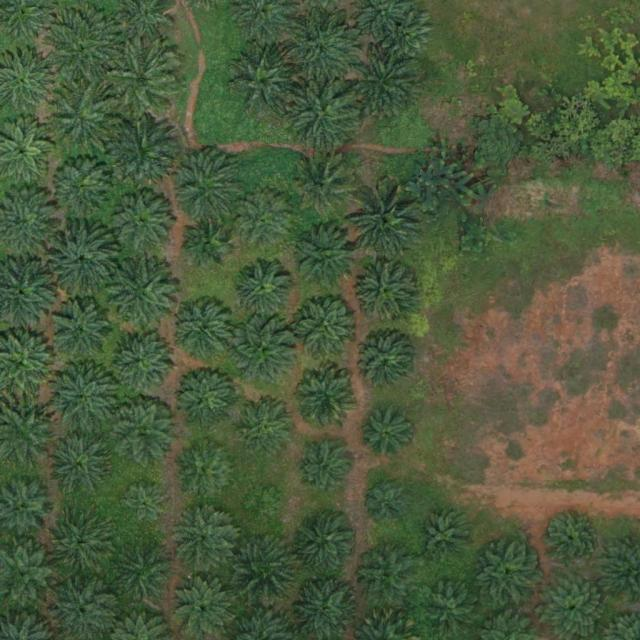Healthy: (105, 45, 176, 116), (170, 153, 241, 224), (286, 15, 357, 86), (290, 291, 361, 362), (48, 15, 118, 86), (46, 82, 116, 153), (109, 115, 179, 186), (107, 187, 177, 258), (108, 260, 178, 331), (229, 47, 299, 118), (289, 80, 359, 151), (350, 54, 420, 125), (227, 316, 297, 387), (352, 189, 422, 259), (47, 220, 117, 290), (292, 225, 362, 295), (290, 510, 360, 580), (229, 533, 299, 603), (50, 365, 120, 435), (295, 156, 358, 219), (50, 301, 113, 364), (354, 260, 417, 323), (355, 545, 418, 608), (237, 397, 300, 460), (49, 431, 112, 494), (47, 514, 110, 577), (51, 154, 113, 217), (169, 300, 232, 362), (233, 189, 295, 252), (231, 259, 293, 322), (355, 331, 418, 393), (174, 365, 236, 428), (176, 439, 238, 502), (171, 507, 233, 570), (171, 576, 233, 639), (111, 331, 173, 394), (112, 401, 174, 464), (113, 542, 175, 605), (476, 544, 538, 607), (294, 369, 356, 431), (377, 10, 432, 65), (359, 409, 414, 464), (418, 510, 473, 565), (297, 441, 352, 496), (543, 512, 598, 567), (428, 585, 482, 640), (184, 218, 231, 265)
Small: (120, 483, 167, 530), (367, 483, 406, 523), (243, 485, 282, 525)
